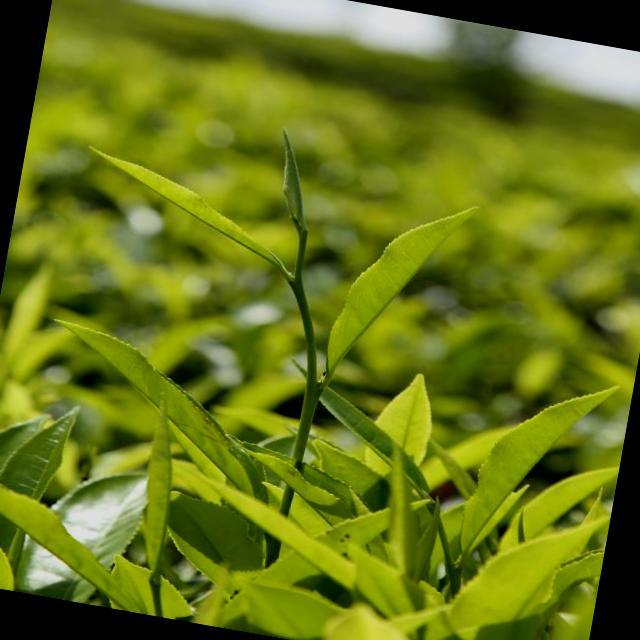Stem: (291, 283, 310, 319)
